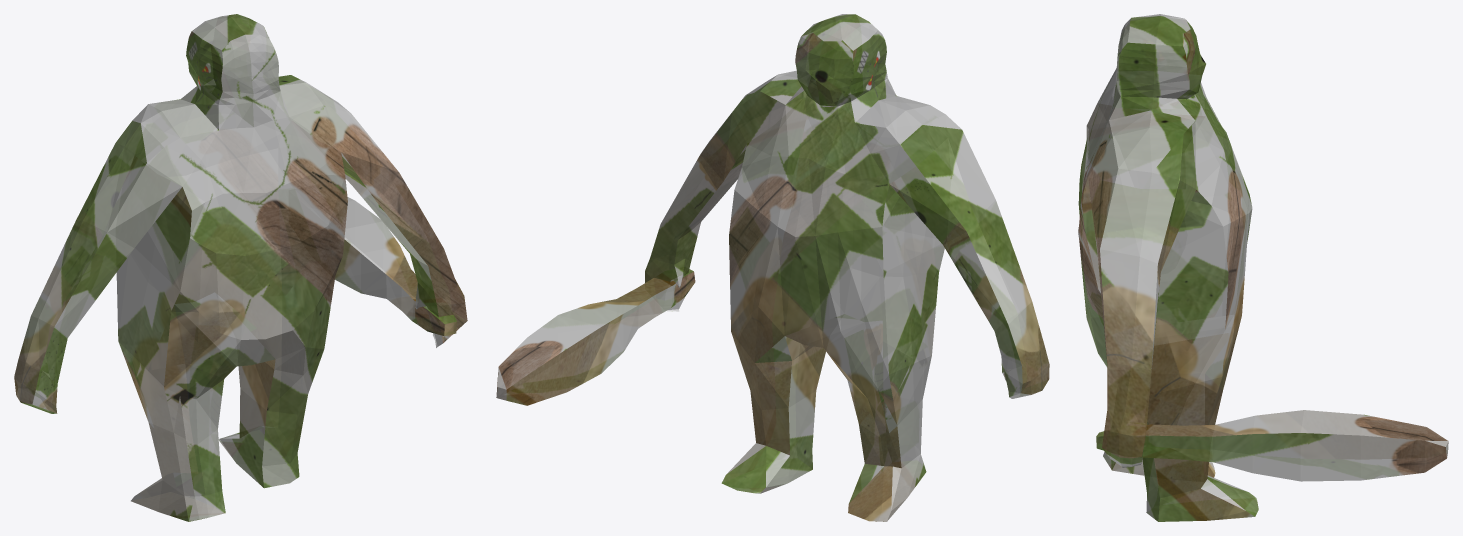
File: Enemigo23.obj
3 renders of one model, left to right at view 1: azimuth 30°, elevation 25°; view 2: azimuth 150°, elevation 25°; view 3: azimuth 270°, elevation 25°, orthographic. The views are drawn at different scales.
Visible parts, largest first — view 1: Cube; view 2: Cube; view 3: Cube.
Boxes of the visible parts, <box> form: Cube: <box>14,14,467,521</box>; Cube: <box>496,14,1049,521</box>; Cube: <box>1078,14,1448,521</box>.
Bounding box in the file's own units: 2.58 × 2.76 × 1.91.
